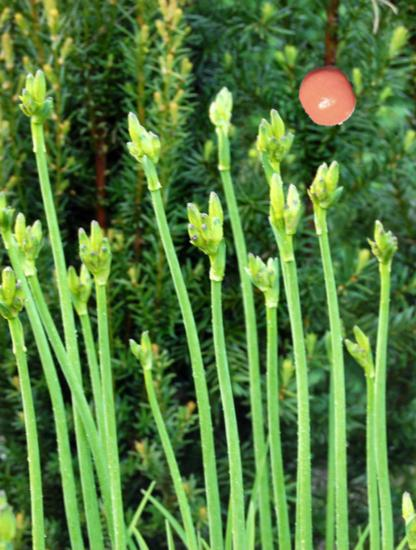Clementine: (297, 65, 360, 128)
